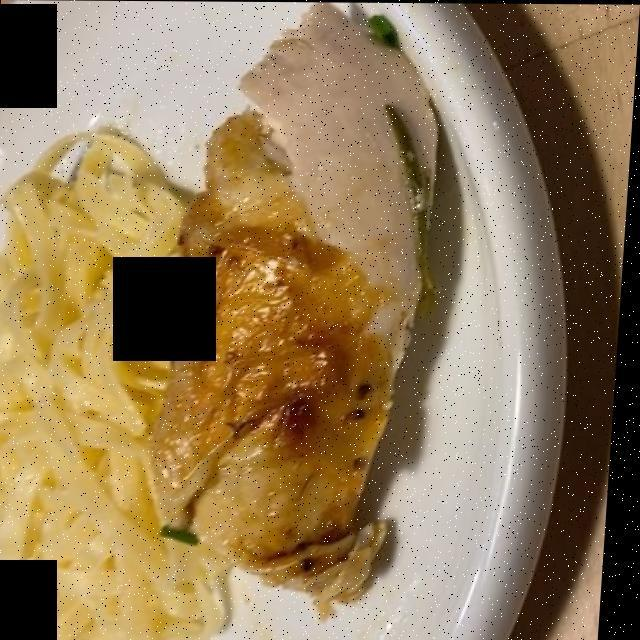chicken-breast: (154, 23, 454, 595)
pasta: (0, 131, 229, 628)
